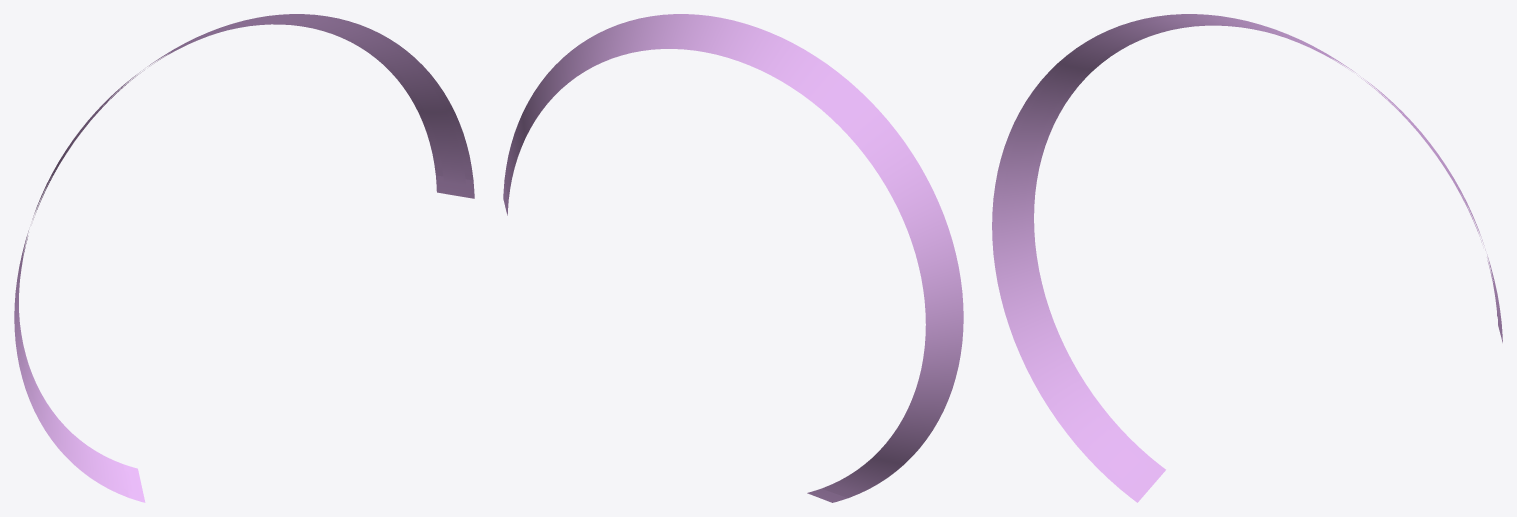
Rendered from Mesh_Note_41.fbx.
The picture shows the model from 3 angles, left to right: view 1: azimuth 30°, elevation 25°; view 2: azimuth 150°, elevation 25°; view 3: azimuth 330°, elevation 25°; orthographic projection. The views are drawn at different scales.
Visible parts, largest first — view 1: Mesh_Note_41; view 2: Mesh_Note_41; view 3: Mesh_Note_41.
Boxes of the visible parts, left/top/right/bottom form: Mesh_Note_41: left=14, top=14, right=474, bottom=502; Mesh_Note_41: left=503, top=14, right=963, bottom=502; Mesh_Note_41: left=992, top=14, right=1502, bottom=502.
Size of the model in its own units: 3.56 by 3.38 by 0.2235.
